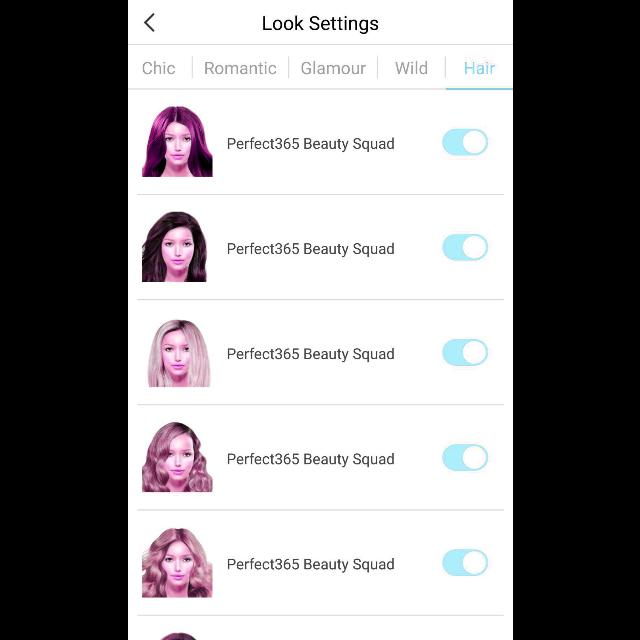icon: (144, 13, 154, 32)
image: (142, 528, 212, 598), (142, 422, 212, 492), (142, 107, 212, 177), (142, 212, 206, 282), (147, 320, 210, 388), (142, 632, 210, 640)
switch: (442, 444, 488, 472), (441, 338, 487, 366), (441, 128, 487, 156), (442, 233, 488, 260), (442, 550, 488, 576)
text: (227, 452, 393, 468), (227, 242, 393, 258), (227, 558, 393, 572), (227, 348, 393, 362), (227, 138, 393, 152), (262, 16, 378, 34), (204, 61, 276, 74), (301, 61, 365, 75), (394, 61, 426, 74), (142, 61, 174, 74), (464, 61, 494, 74)
